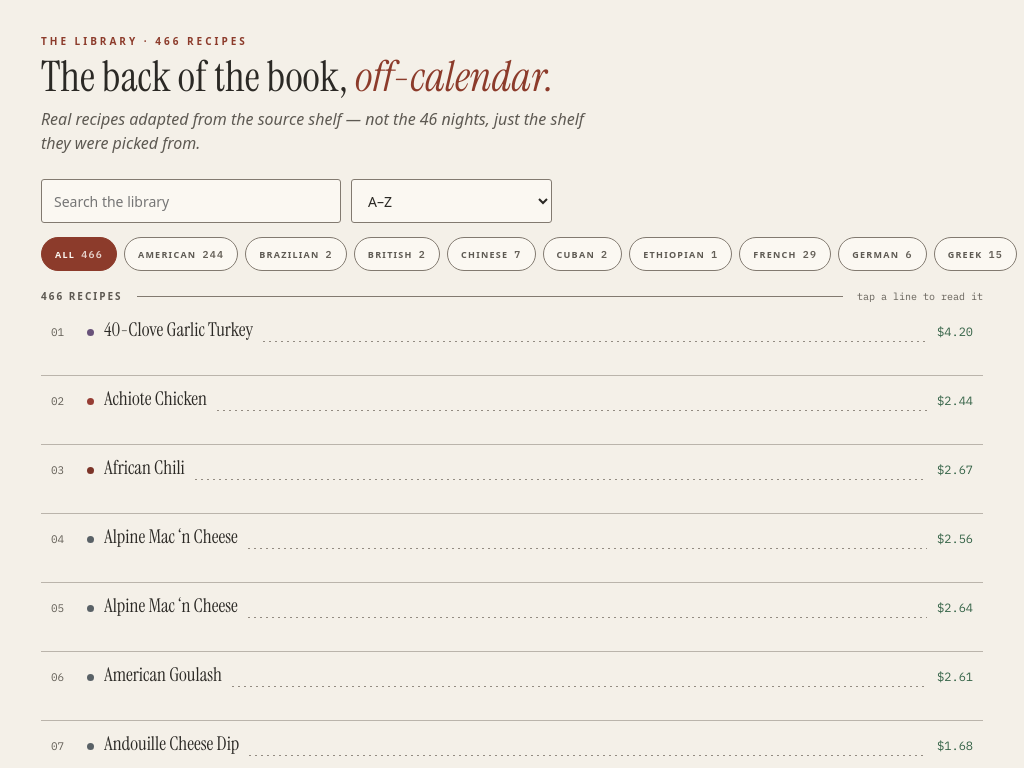
Scenario: LibraryRoom renders › opens a recipe and pulls its steps out of the lazy chunk
The image size is (1024, 768).
Click the text "40-Clove Garlic Turkey".
click(179, 330)  # box 104,319 -> 253,342
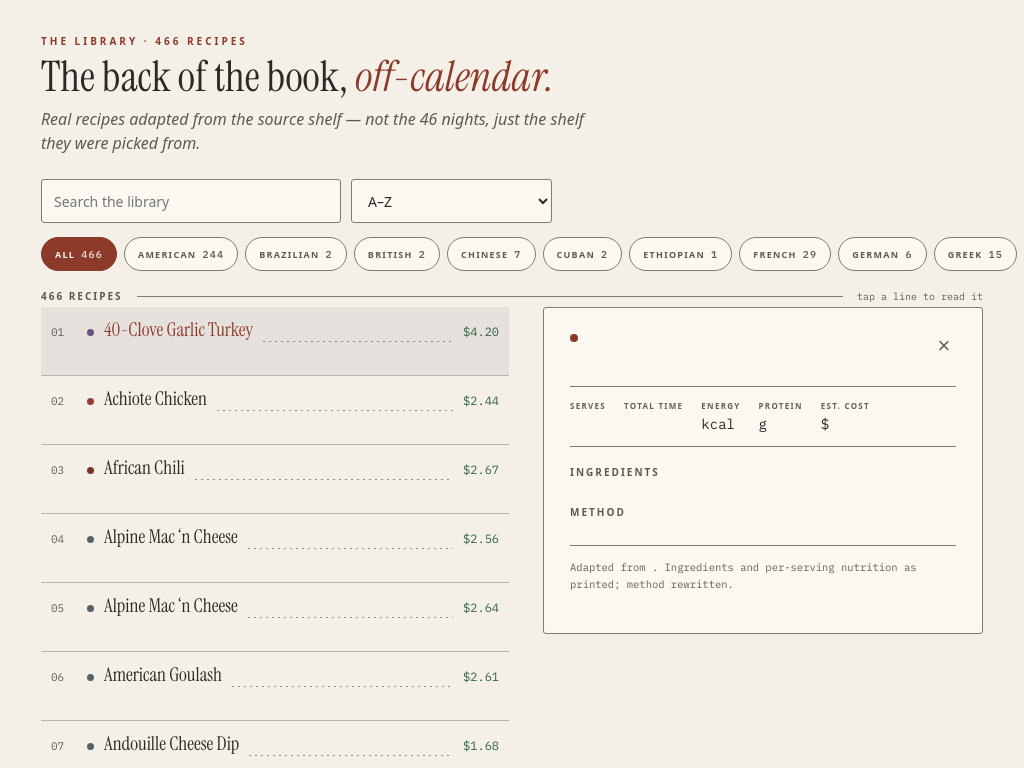
expect the text "Ingredients" is shown: met, box 570,465 -> 660,479
expect the text "Adapted from" is shown: met, box 570,560 -> 652,574
